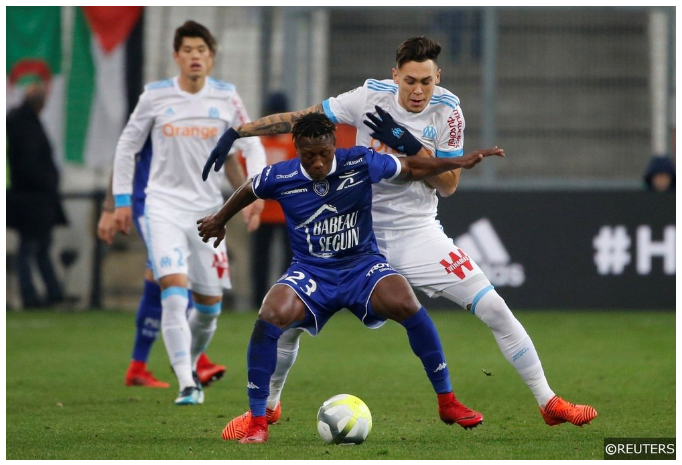soccer player: (203, 36, 601, 427), (195, 120, 507, 439), (108, 18, 258, 405)
soccerball: (312, 389, 373, 448)
